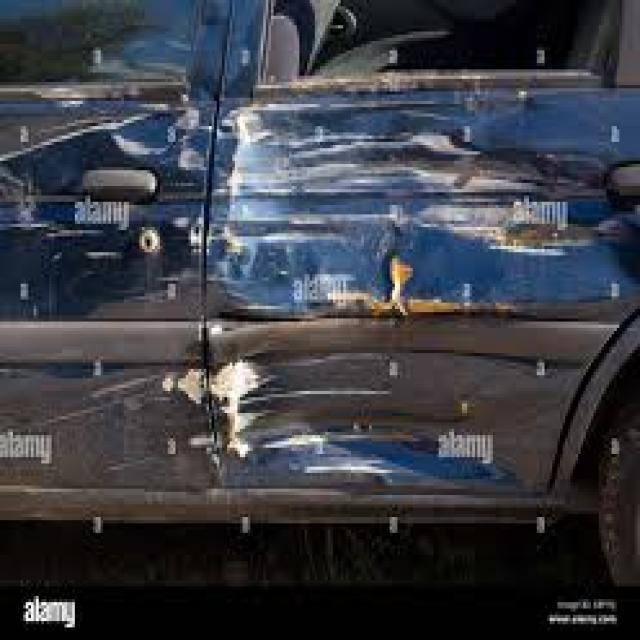damaged-door: (213, 0, 640, 515)
